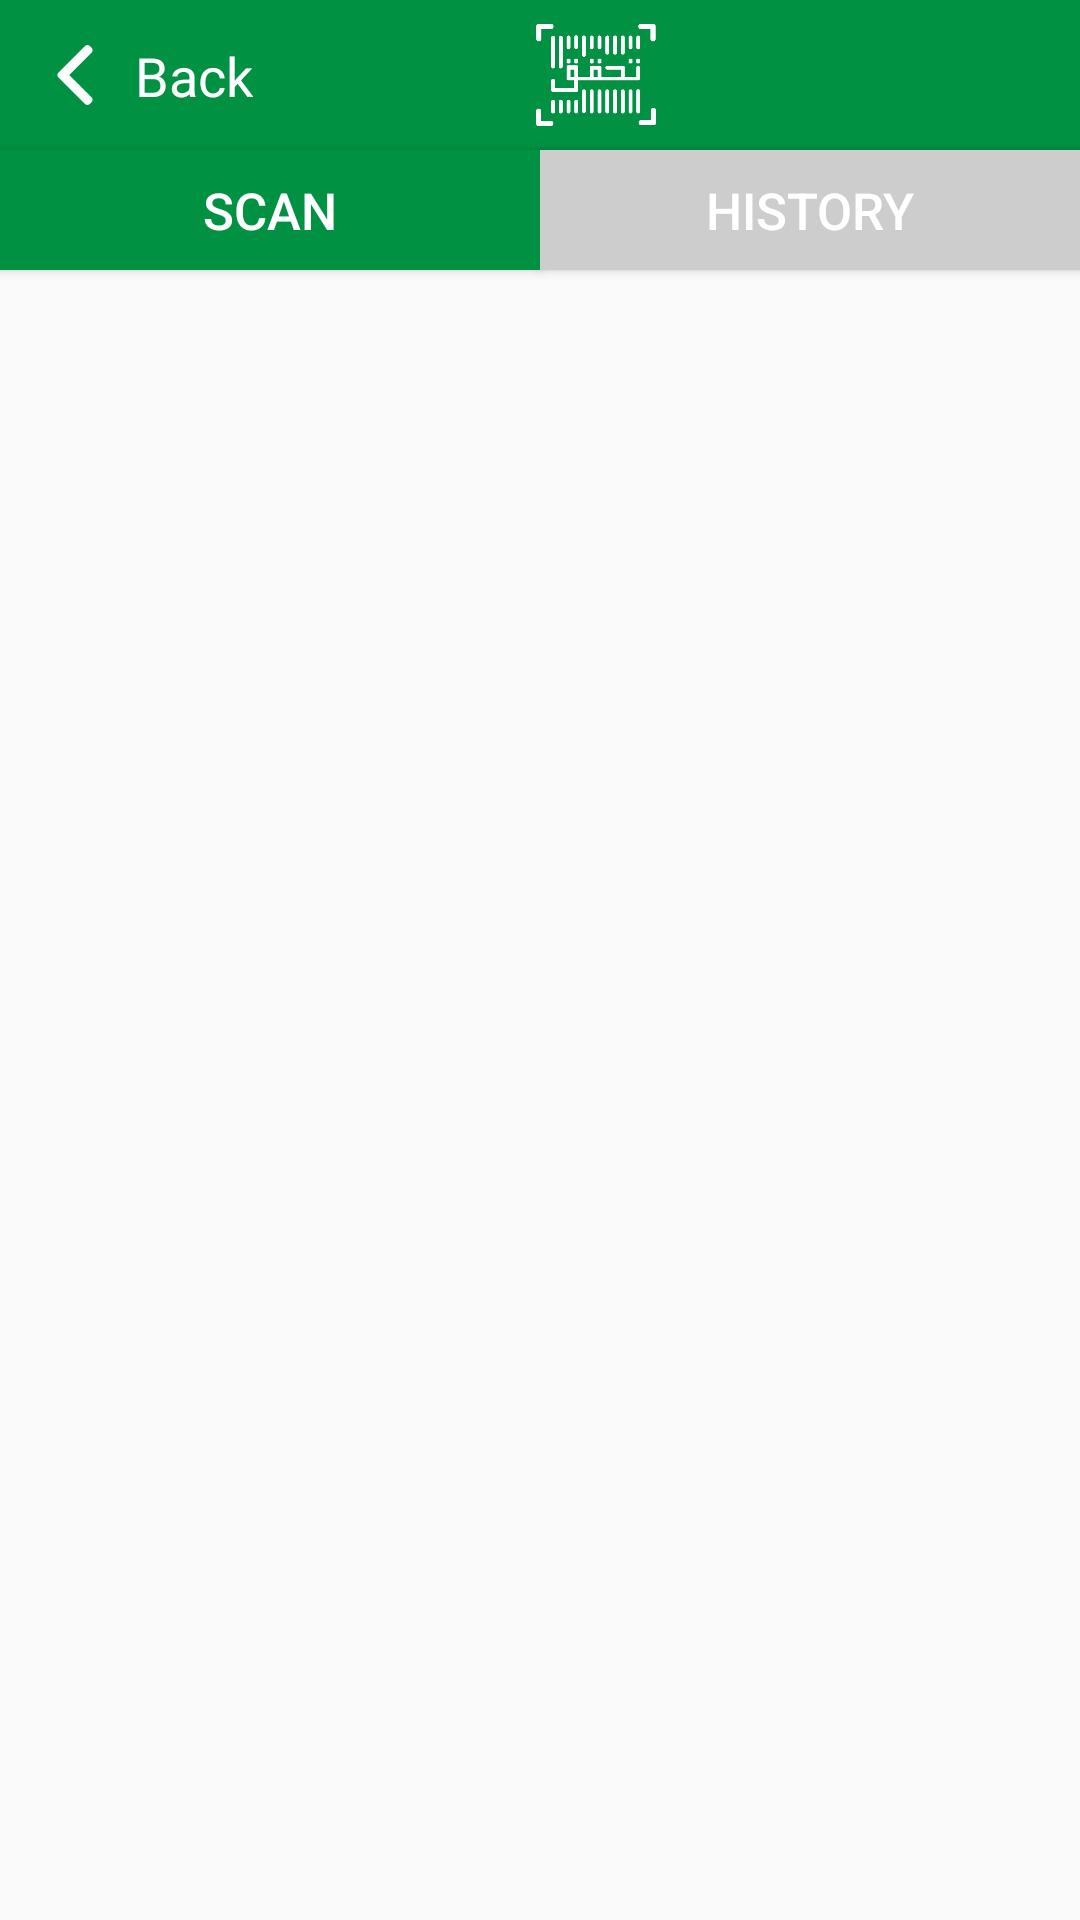

Icons on this 1080px x 1920px Android screen, each with the point to tap as [x,y]:
left arrow: [75,75]
